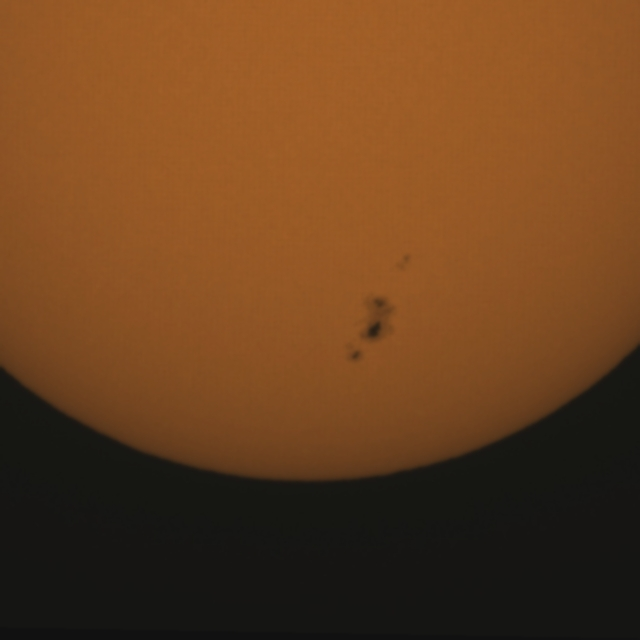sunspot: (352, 294, 400, 346), (344, 317, 388, 367), (367, 294, 397, 318), (392, 251, 412, 274), (346, 346, 365, 366)
